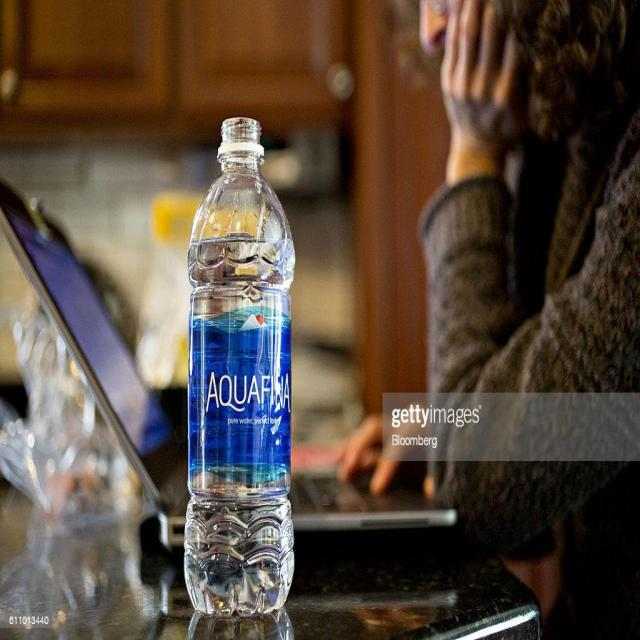plastic: (184, 117, 295, 638)
